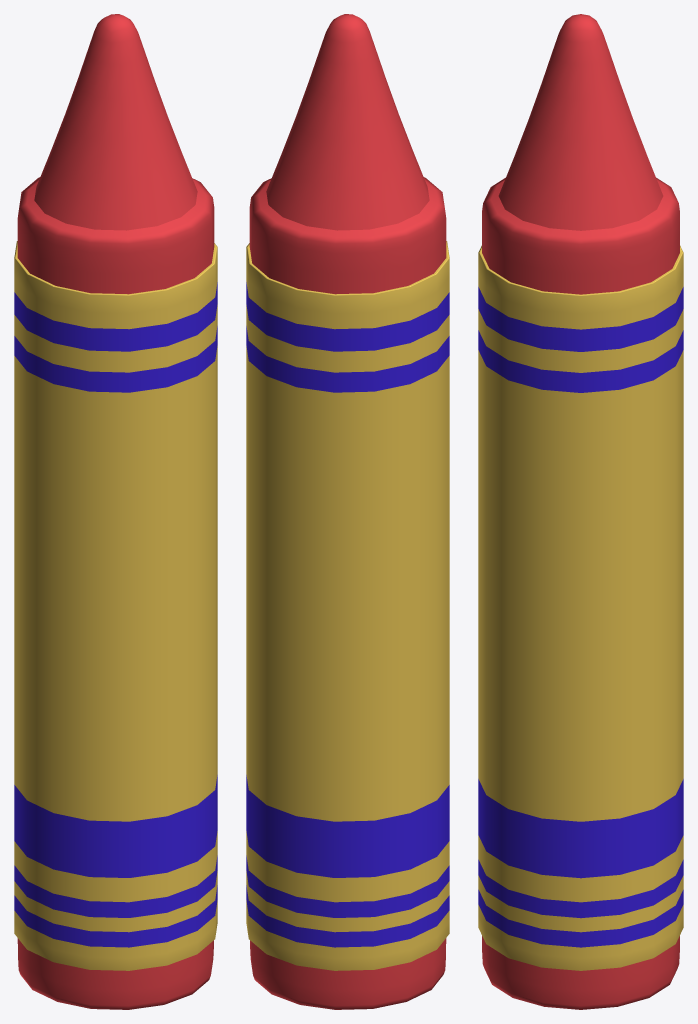
File: crayon.fbx
3 views of the same model, side by side, from view 1: azimuth 30°, elevation 25°; view 2: azimuth 150°, elevation 25°; view 3: azimuth 270°, elevation 25° (orthographic).
Visible parts, largest first — view 1: Cylinder; view 2: Cylinder; view 3: Cylinder.
Part boxes in pixels (x1,y1,x2,y2): Cylinder: (14,14,217,1009); Cylinder: (246,14,449,1009); Cylinder: (478,14,683,1009).
Bounding box in the file's own units: 2.51 × 12.86 × 2.51.
